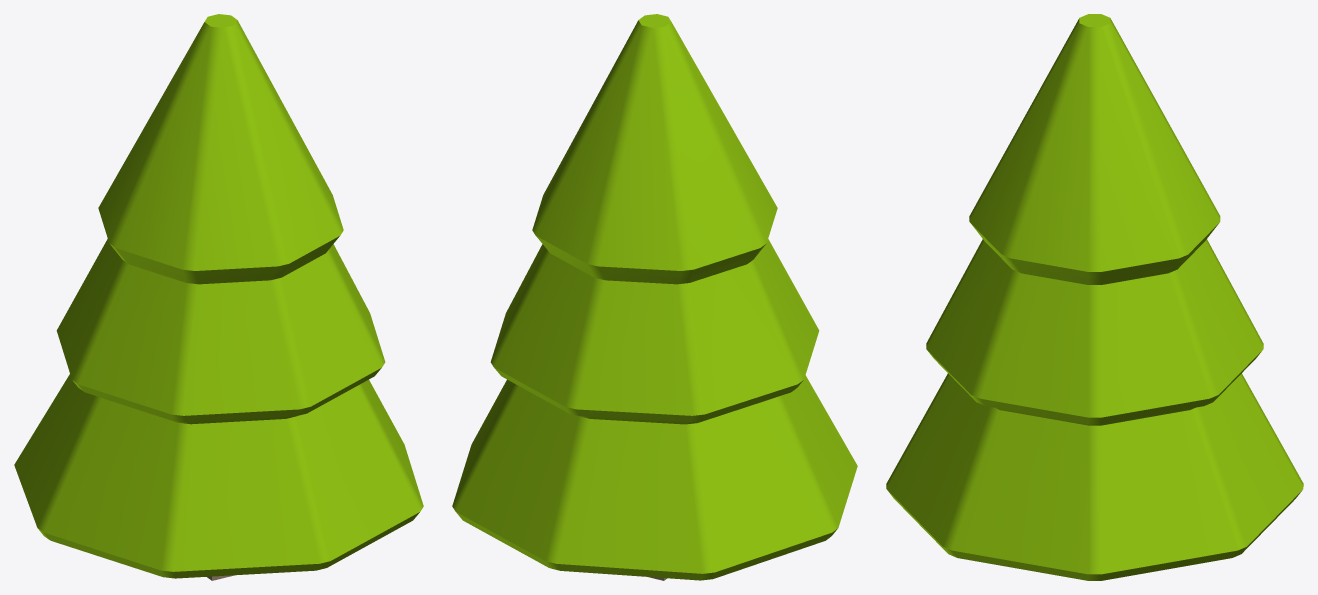
File: pine_2_bevel.fbx
3 views of the same model, side by side, from view 1: azimuth 30°, elevation 25°; view 2: azimuth 150°, elevation 25°; view 3: azimuth 270°, elevation 25° (orthographic).
Parts seen in each view (by area): view 1: pine_2_bevel; view 2: pine_2_bevel; view 3: pine_2_bevel.
Part boxes in pixels (<box>): pine_2_bevel: <box>14,14,423,580</box>; pine_2_bevel: <box>452,14,857,580</box>; pine_2_bevel: <box>886,14,1303,580</box>.
Size of the model in its own units: 177 by 256 by 177.
